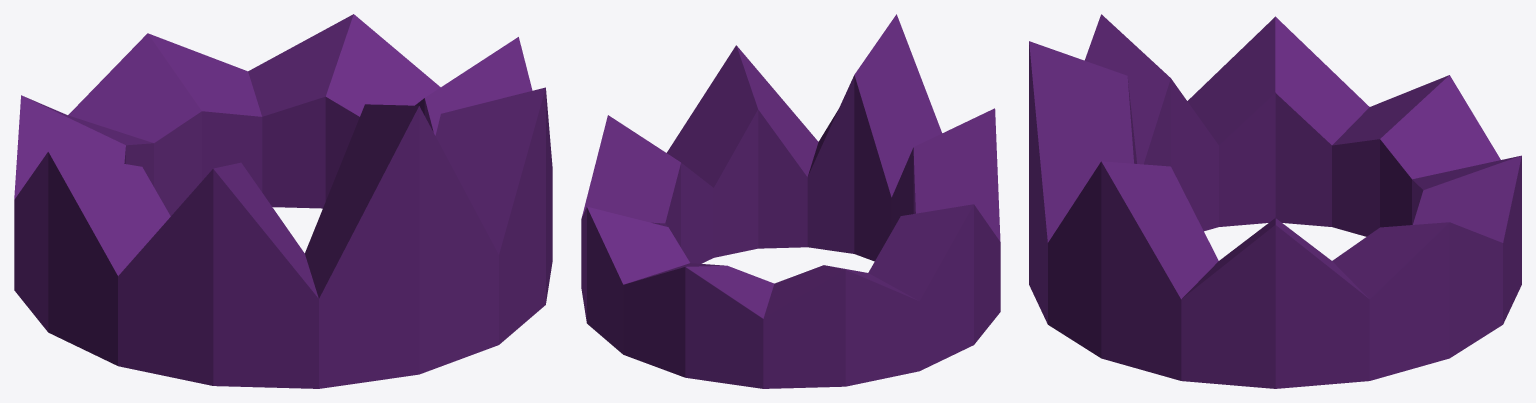
Rendered from playerCrownPurple.fbx.
The picture shows the model from 3 angles, left to right: view 1: azimuth 30°, elevation 25°; view 2: azimuth 150°, elevation 25°; view 3: azimuth 270°, elevation 25°; orthographic projection. The views are drawn at different scales.
Parts seen in each view (by area): view 1: PlayerCrown - Purple; view 2: PlayerCrown - Purple; view 3: PlayerCrown - Purple.
Boxes of the visible parts, left/top/right/bottom form: PlayerCrown - Purple: left=14, top=14, right=552, bottom=388; PlayerCrown - Purple: left=581, top=14, right=1000, bottom=388; PlayerCrown - Purple: left=1029, top=14, right=1521, bottom=388.
Size of the model in its own units: 36.08 by 36.08 by 19.7.
